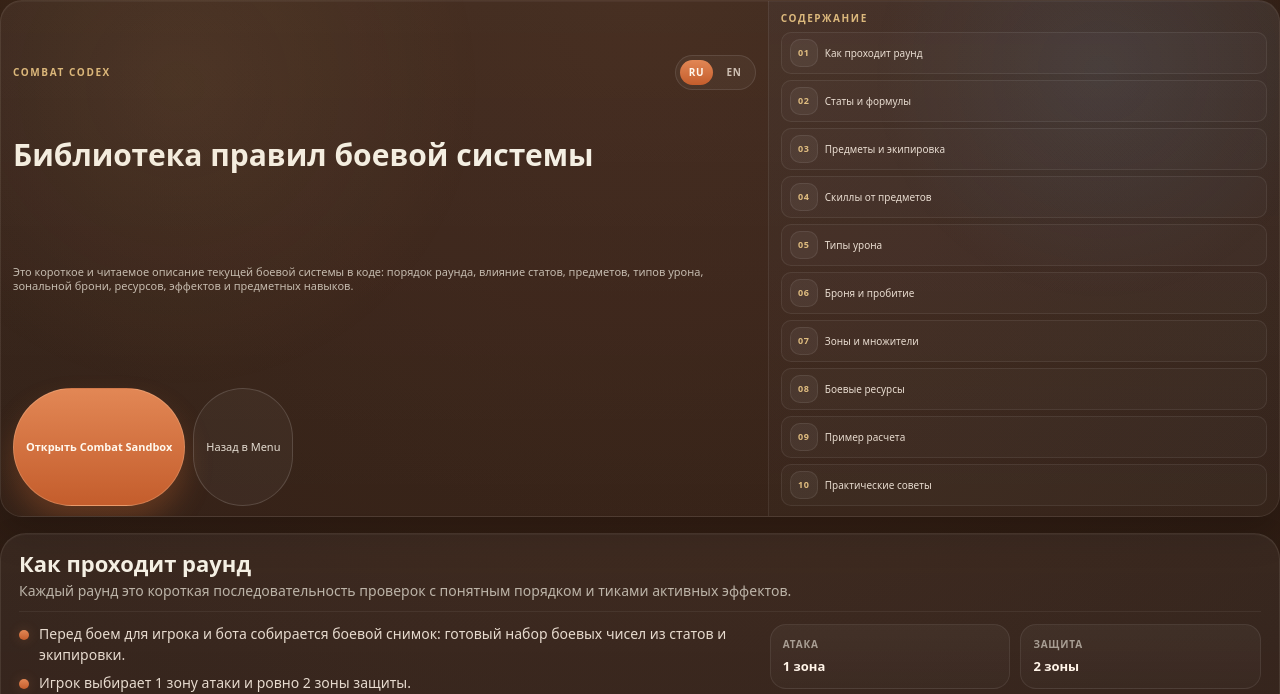
Test: CombatRulesScreen › switches to english content
Click the button "EN" at (734, 72), box [718, 60, 751, 84]
(page scrolled)
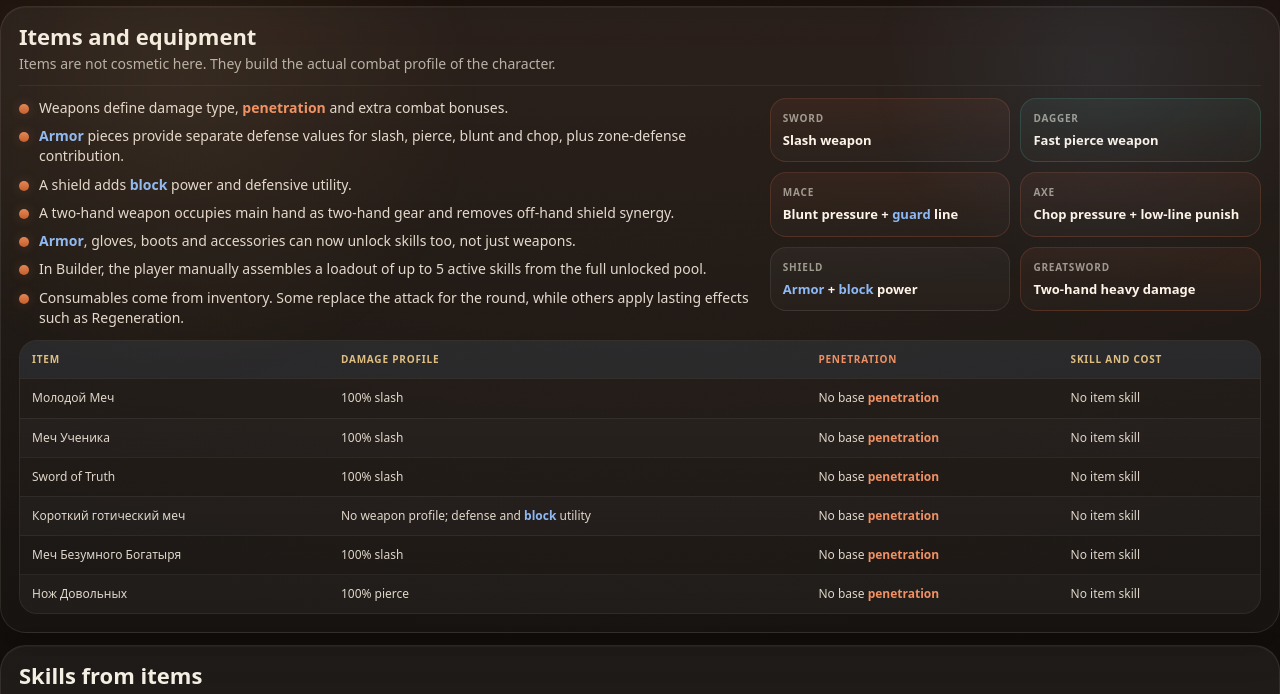
Expected: the column heading "Skill and cost" is shown, [1059, 341, 1260, 379]
